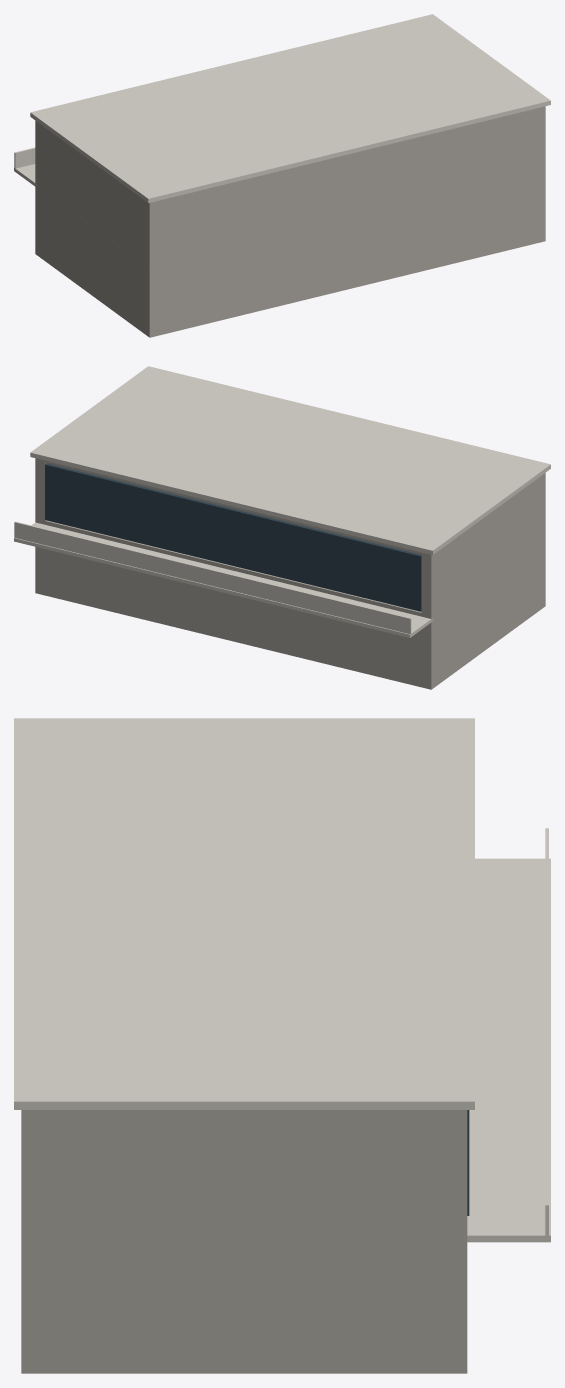
Rendered from b03-clubhouse-modern.glb.
The picture shows the model from 3 angles, top to bottom: view 1: azimuth 30°, elevation 25°; view 2: azimuth 150°, elevation 25°; view 3: azimuth 270°, elevation 25°; orthographic projection. The views are drawn at different scales.
Parts seen in each view (by area): view 1: part5, part0, part1; view 2: part5, part0, part2, part1, part4, part3; view 3: part5, part0, part1, part3, part4.
Boxes of the visible parts, x1,y1,x2,y2 form: part5: (30, 14, 550, 202); part0: (35, 172, 545, 337); part1: (35, 106, 545, 268); part5: (30, 366, 550, 554); part0: (35, 537, 545, 689); part2: (45, 463, 421, 611); part1: (35, 458, 545, 619); part4: (14, 521, 411, 634); part3: (14, 522, 433, 637); part5: (14, 718, 474, 1109); part0: (21, 1239, 467, 1373); part1: (21, 1110, 467, 1238); part3: (467, 858, 550, 1242); part4: (545, 828, 548, 1235).
Bounding box in the file's own units: 24400 × 8175 × 14450.
